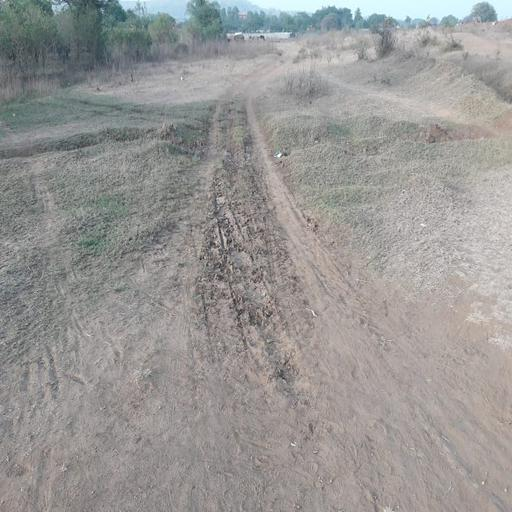vehicle_track: (41, 94, 512, 512)
